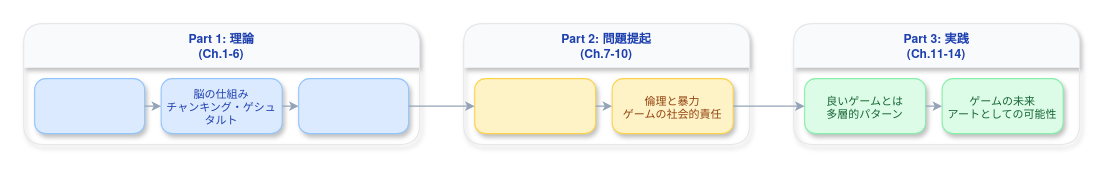
Some shapes in this 1106 by 172 pixel diagram are drawn without their labels. The shapes that lost their labels are listed below. From the top down, each one's centre as x and y in pixels, then its label:
At pixel 90 107: "楽しさとは何か = パターン認識".
At pixel 354 107: "ゲームが教えるもの 生存スキルの練習".
At pixel 535 107: "ゲームの限界 飽きる理由".
